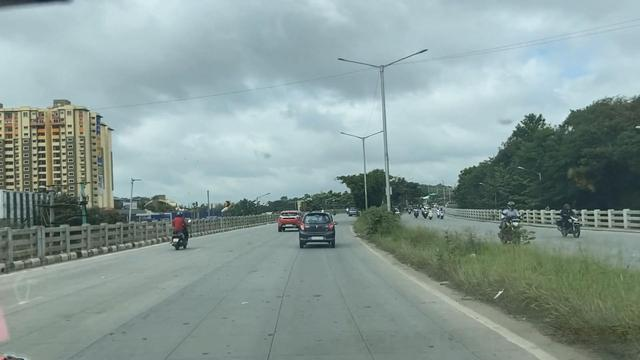LMV: (298, 214, 329, 240), (173, 216, 197, 241), (275, 210, 292, 230)
